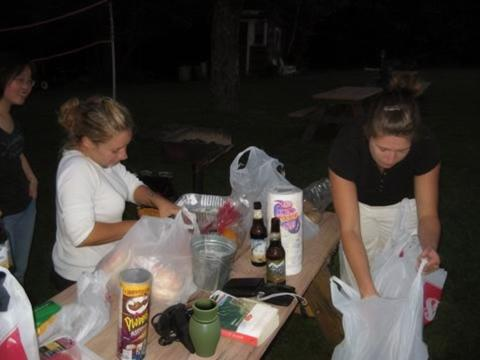bottle: (266, 218, 287, 286), (248, 200, 269, 268)
person: (52, 97, 191, 294), (330, 84, 448, 316), (1, 63, 41, 298)
pottedplant: (188, 294, 219, 360)
